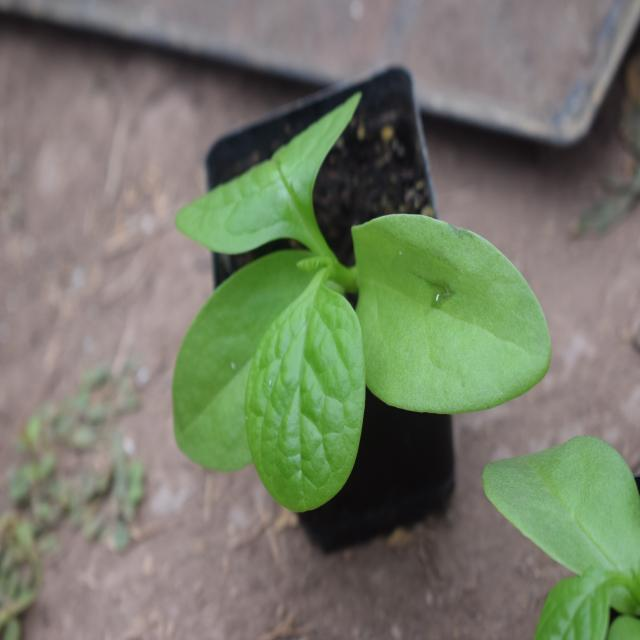Ceylon spinach: (118, 124, 559, 438)
